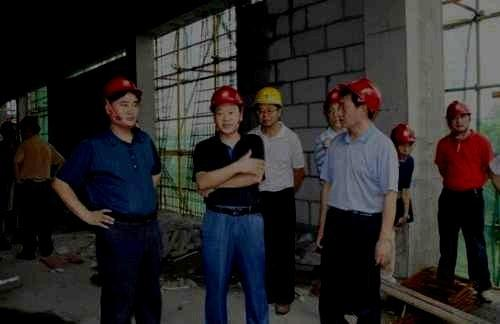helmet: (334, 76, 384, 128), (104, 77, 144, 127), (209, 85, 244, 133), (251, 87, 284, 127), (390, 122, 418, 159), (322, 86, 344, 129), (444, 99, 472, 131)
